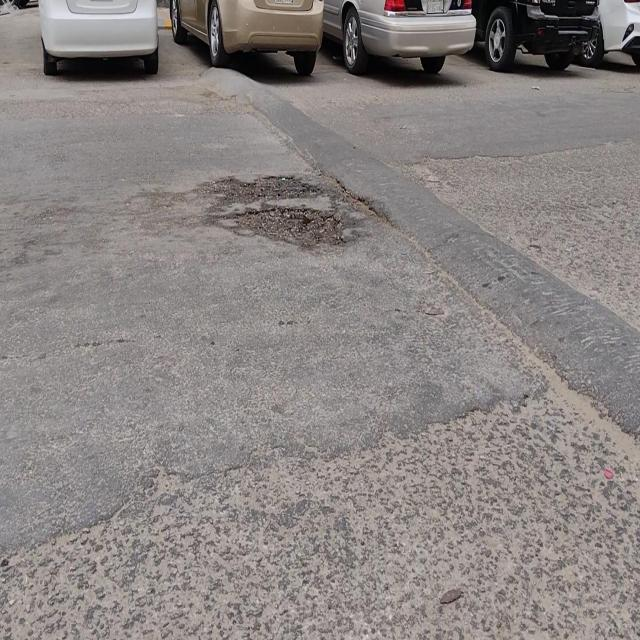Potholes: (211, 174, 337, 251)
